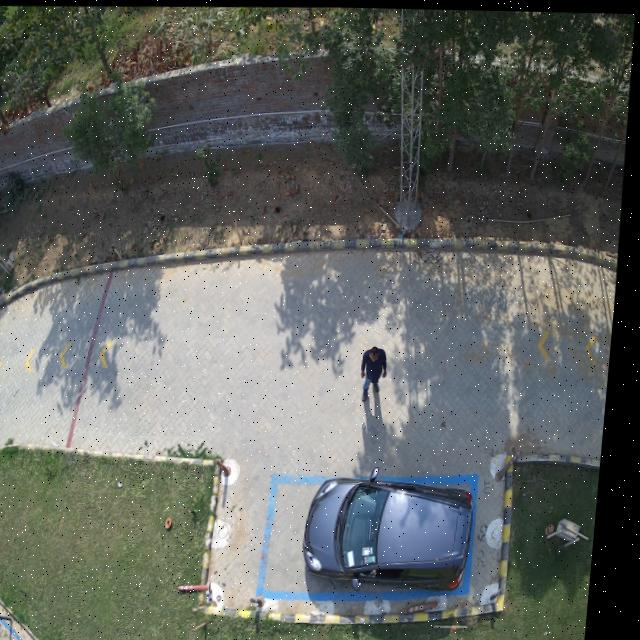car: (310, 475, 484, 589)
